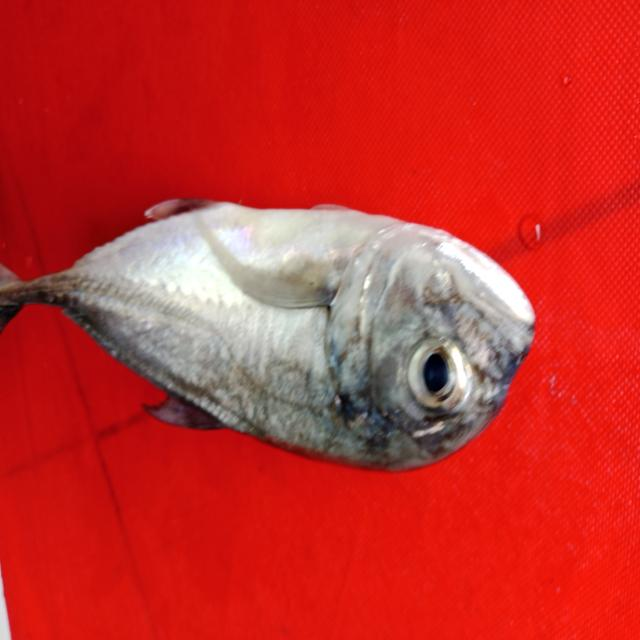ikan: (5, 134, 545, 490)
